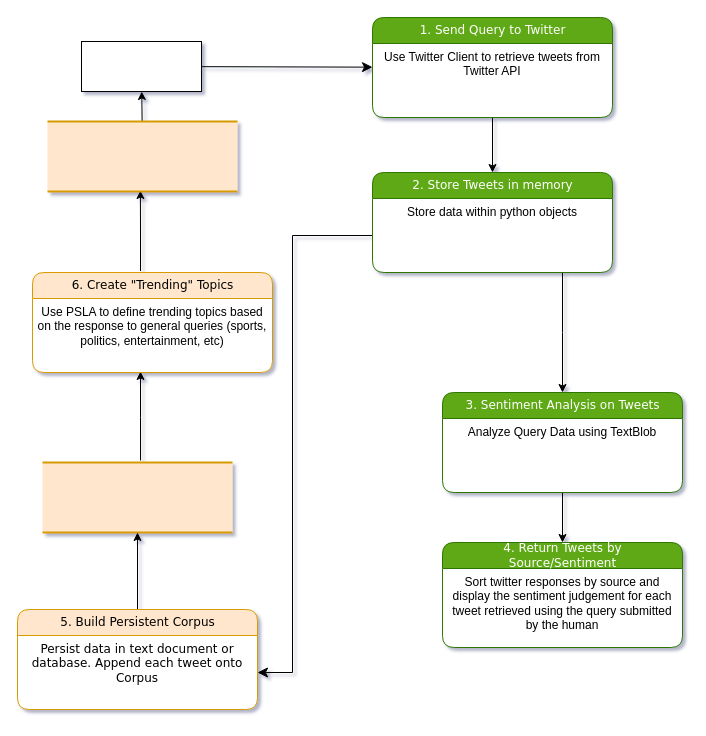
Some shapes in this 706 by 736 pixel diagram are drawn without their labels. Here are the shapes that lost their labels. From the top down, the centre of each, then its label:
point (141, 66): User Query Data
point (142, 156): Output/Input: Trending Topics
point (137, 497): Output: Persistent Corpus
